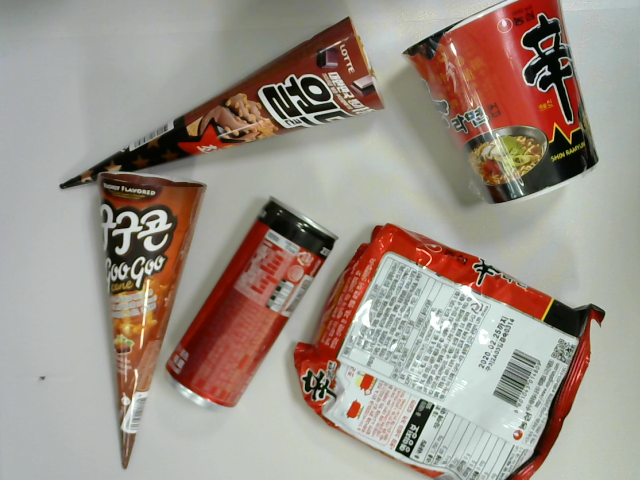Coca_Cola_Zero_Can_250ml: (160, 194, 336, 424)
GooGoo_Cone_CVS: (95, 168, 212, 466)
Sinramen: (293, 217, 612, 480)
Sinramen_small: (404, 1, 604, 213)
World_Cone_Choco: (47, 17, 401, 205)
